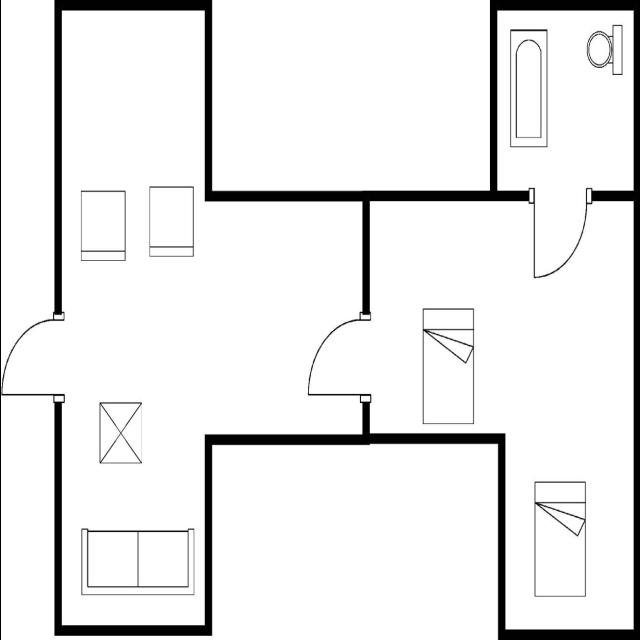bed: (417, 299, 479, 429), (529, 472, 589, 602)
coffee_table: (96, 394, 146, 471)
large_sink: (582, 19, 624, 83)
large_sofa: (74, 518, 200, 603)
small_sofa: (144, 177, 198, 263), (76, 184, 130, 266)
tub: (504, 23, 550, 154)
